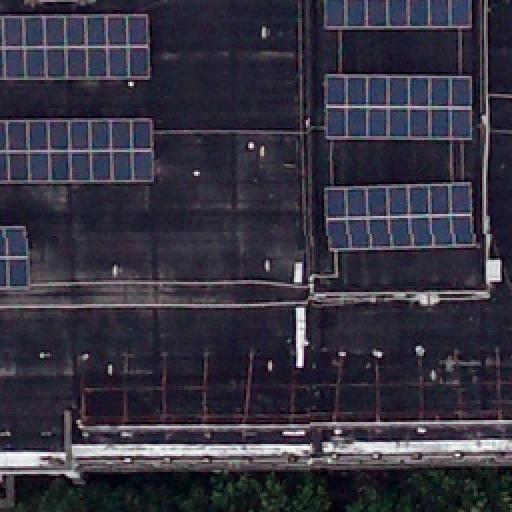solar-panel: (0, 117, 156, 187), (326, 182, 474, 250), (1, 16, 151, 80), (327, 76, 473, 140), (323, 1, 469, 31), (0, 228, 28, 284)
